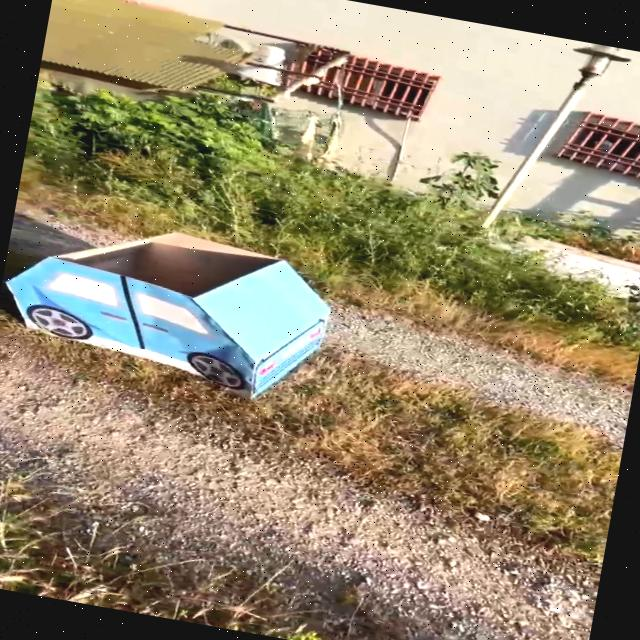blue_car: (0, 183, 369, 442)
